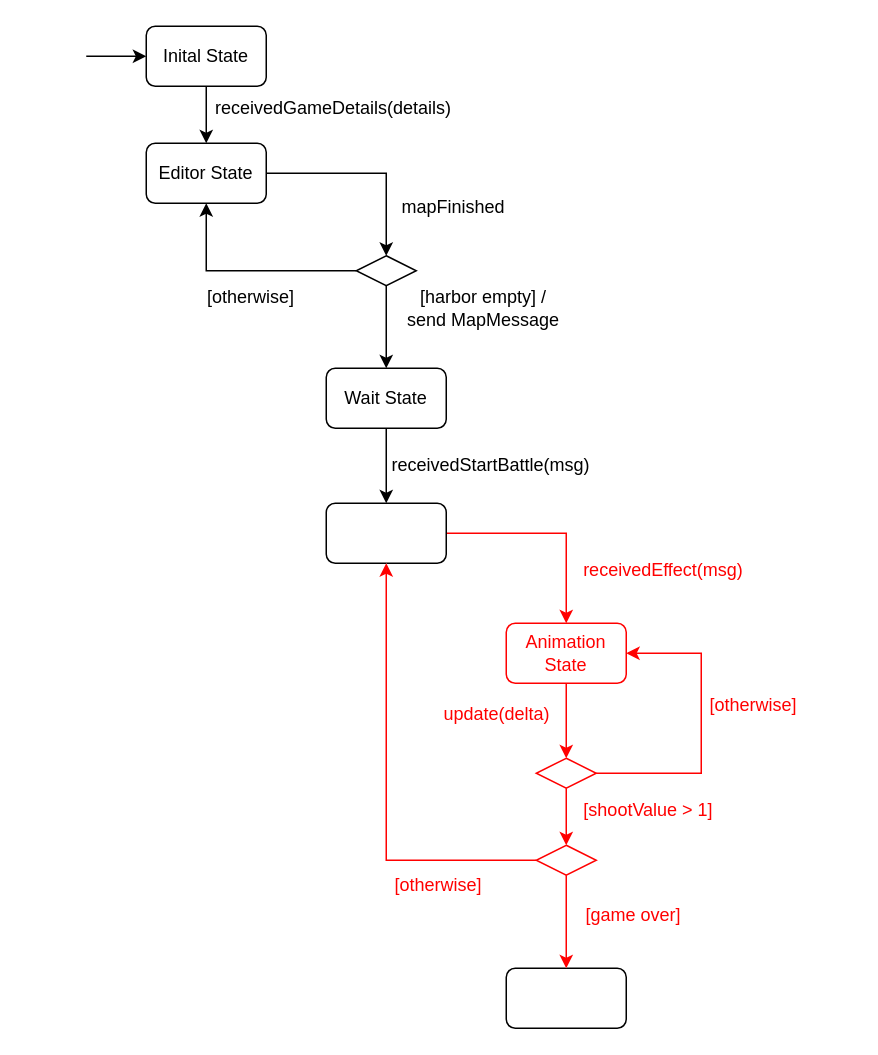
This 878x1055 diagram has some shape labels left out. Each missing label, with the box of its shape:
Battle State: (325, 502, 446, 563)
Game over: (505, 967, 626, 1028)
